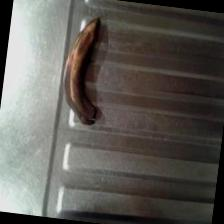Banana Rotten: (47, 6, 116, 132)
